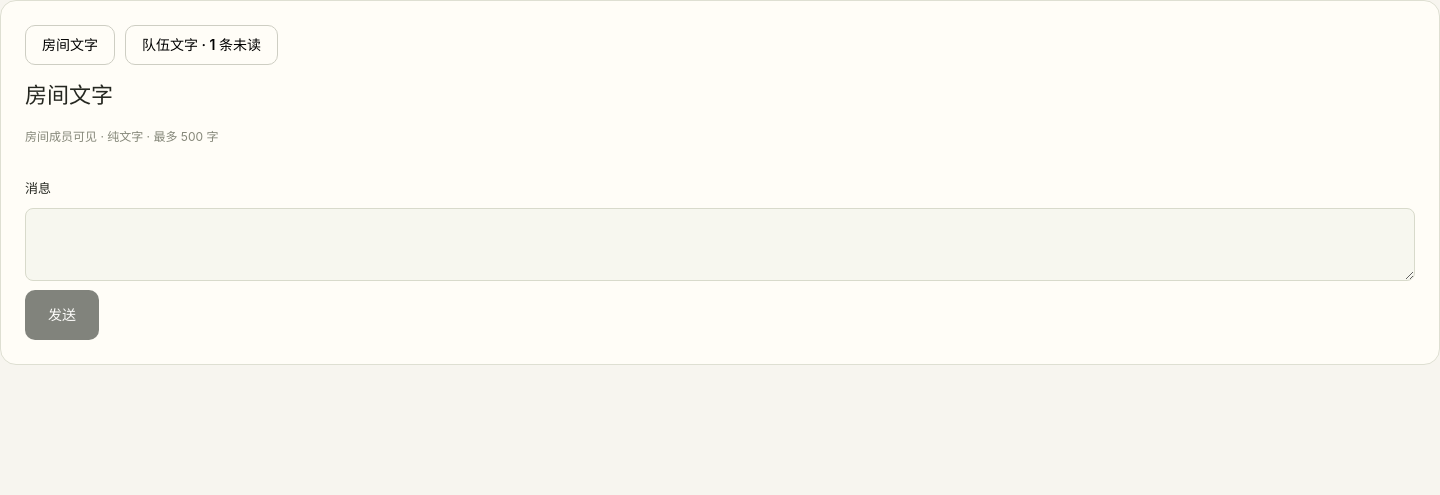
it: room chat channel awareness › shows a pushed team message immediately and deduplicates the cursor replay
Click the button "队伍文字 · 1 条未读".
click(202, 45)  # box [125,25,278,65]
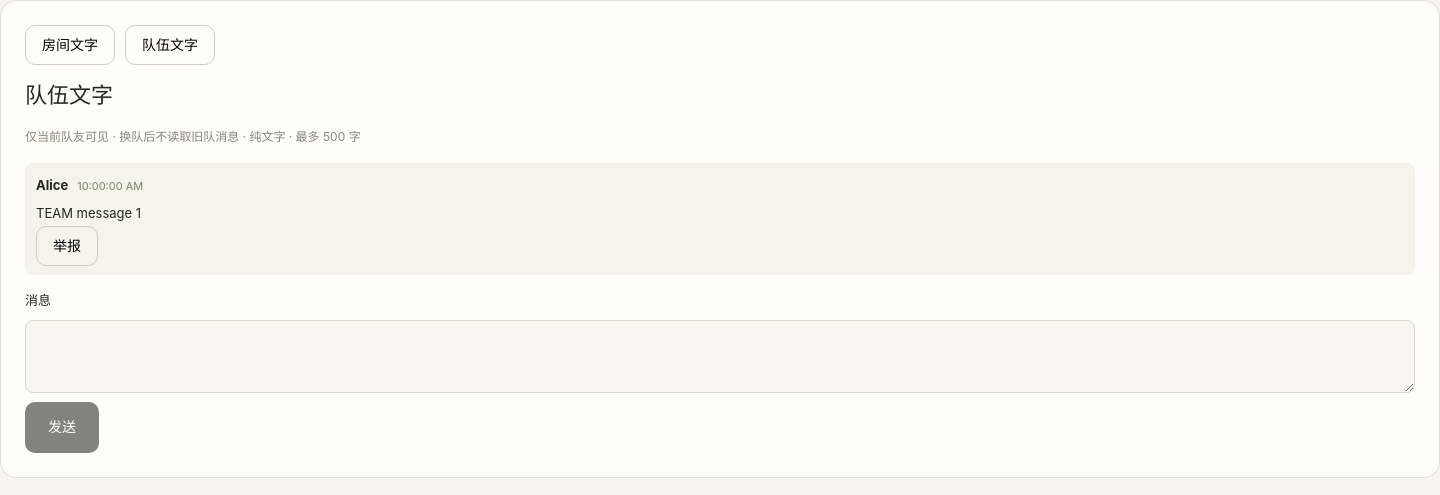
Expected: the number of list items is 1, [25,163,1415,275]
Expected: the text "TEAM message 1" is shown, [36,205,141,221]
